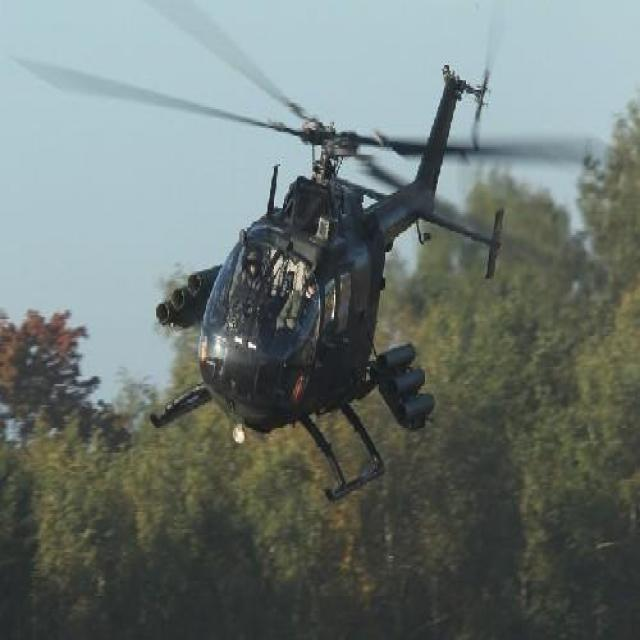MIL_HELO: (73, 0, 611, 499)
